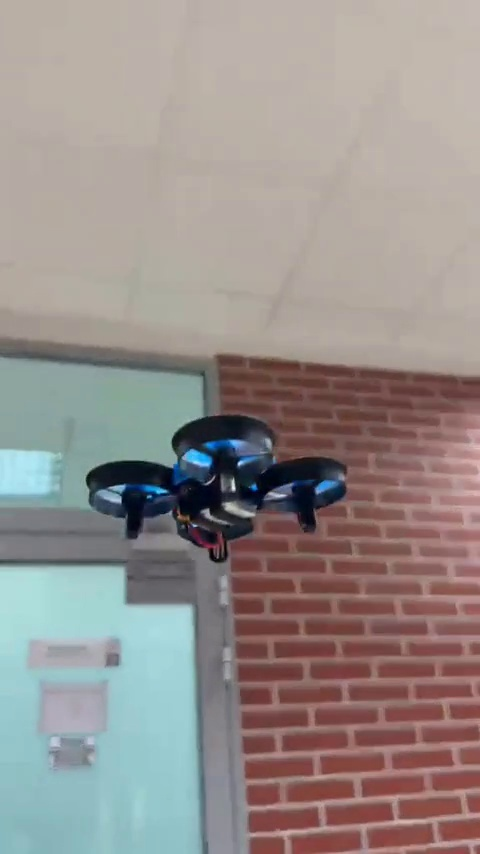drone: (77, 417, 352, 562)
